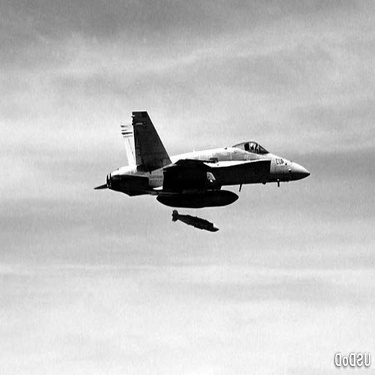airplane: (72, 89, 324, 241)
